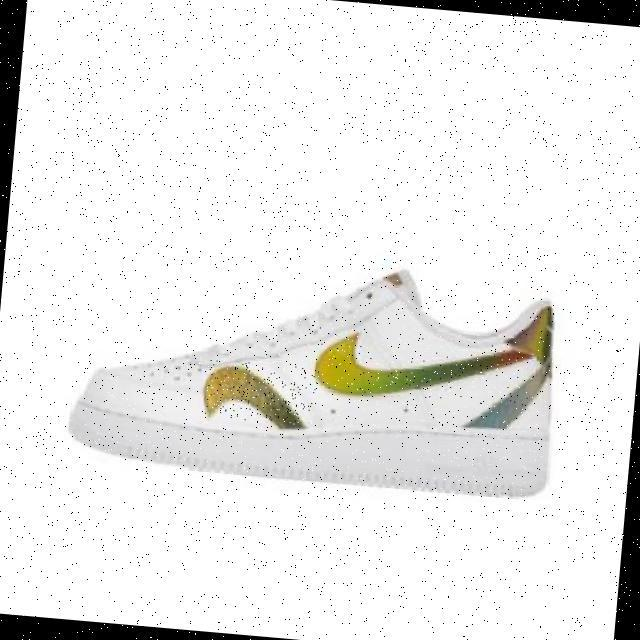Nike: (314, 328, 536, 409), (204, 359, 318, 426)
